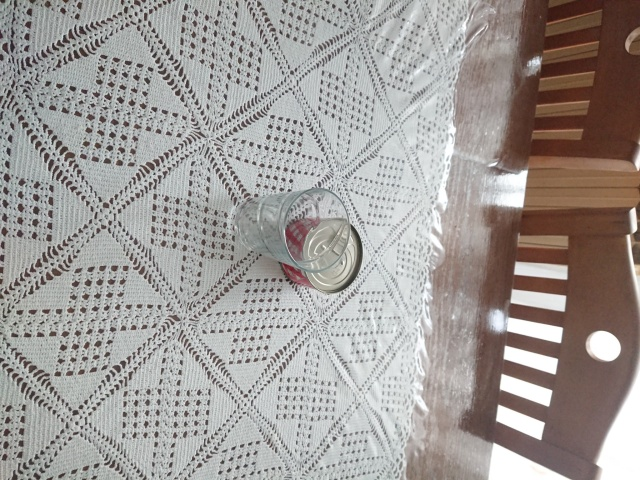Podravka Luncheon Meat 150g: (277, 216, 364, 295)
